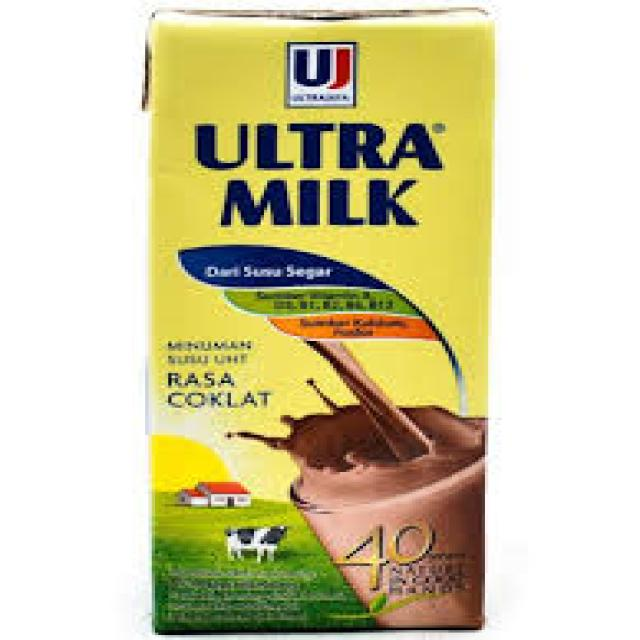susu_kotak: (121, 5, 506, 638)
